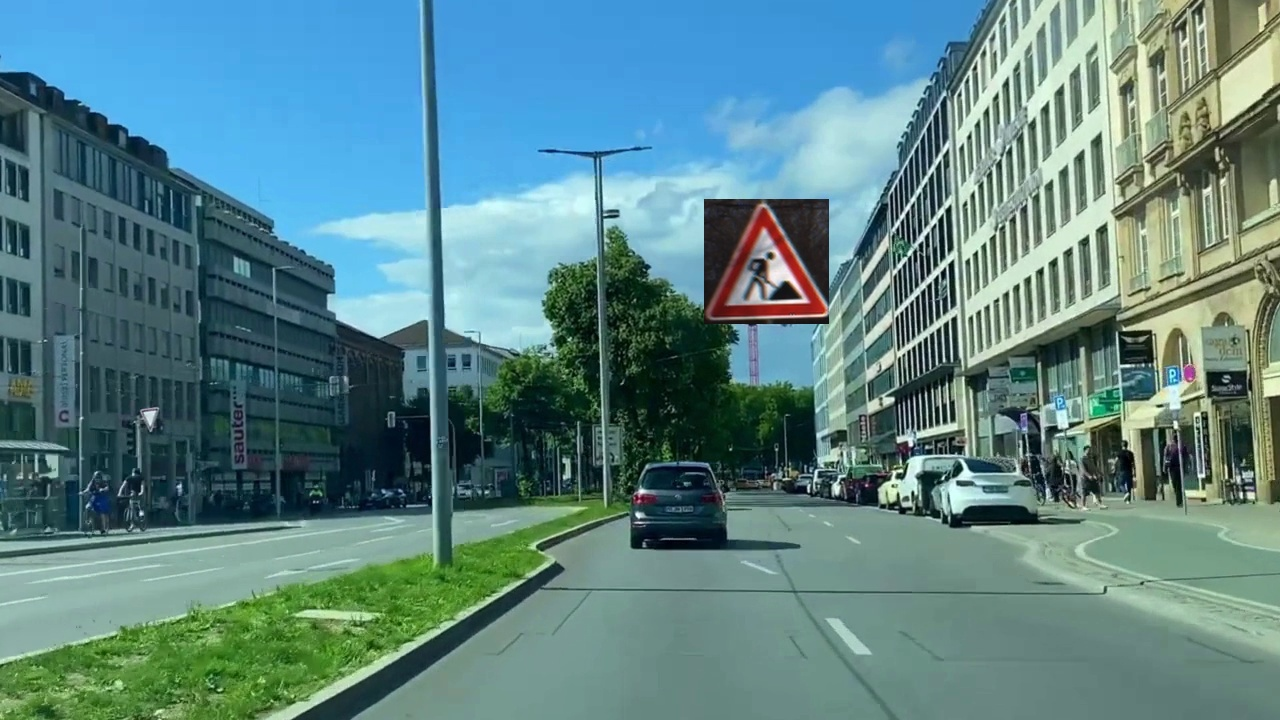Road work: (704, 199, 829, 324)
